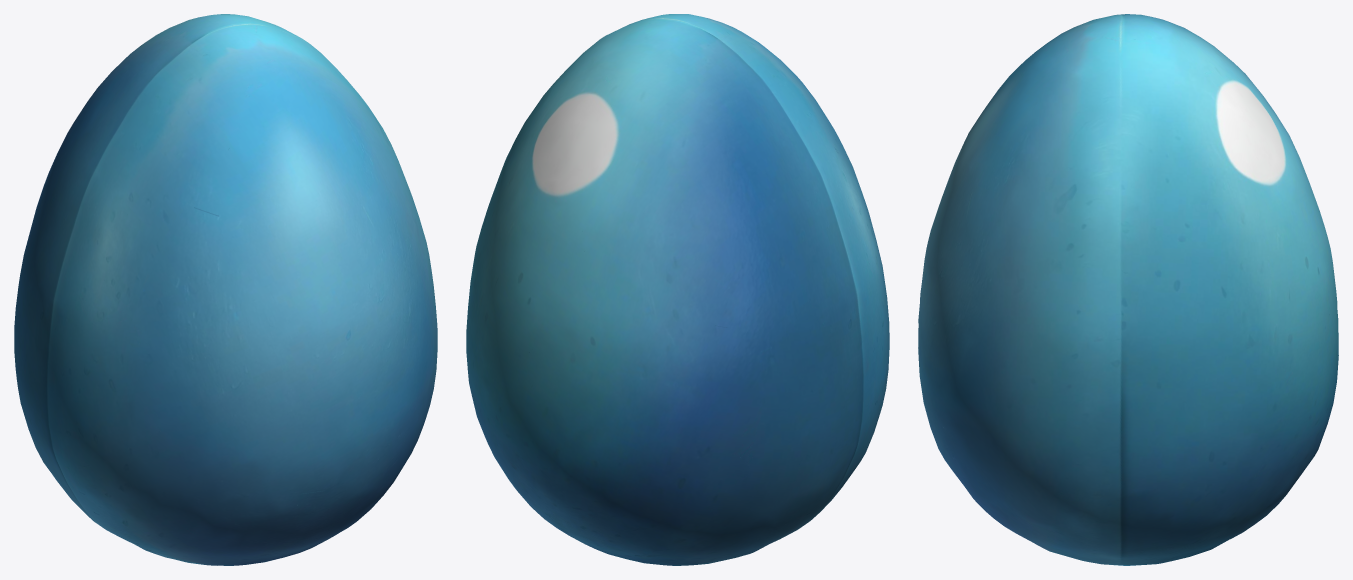
File: huevo.glb
3 renders of one model, left to right at view 1: azimuth 30°, elevation 25°; view 2: azimuth 150°, elevation 25°; view 3: azimuth 270°, elevation 25°, orthographic.
Parts seen in each view (by area): view 1: huevo2; view 2: huevo2; view 3: huevo2.
Boxes of the visible parts, left/top/right/bottom form: huevo2: left=14, top=14, right=437, bottom=565; huevo2: left=466, top=14, right=889, bottom=565; huevo2: left=918, top=14, right=1338, bottom=565.
Size of the model in its own units: 0.4918 by 0.6733 by 0.4921.
Materials: 1 (1 with a texture image).
